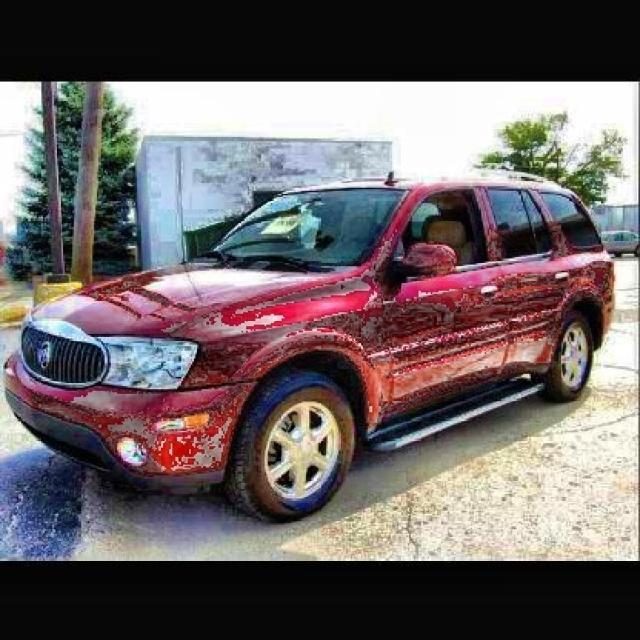maroon: (4, 170, 614, 516)
